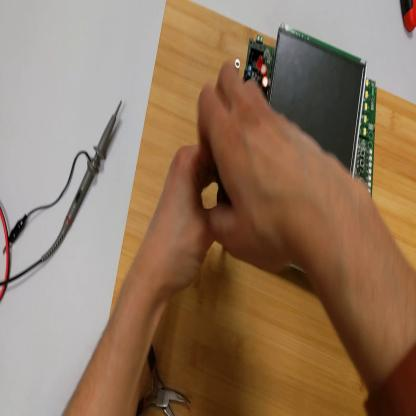hand: (197, 61, 327, 272), (144, 140, 224, 299)
low voltage board: (244, 32, 385, 203)
oscilloscope probe tip: (43, 95, 121, 263)
pliers: (130, 345, 193, 415), (401, 3, 415, 36)
screwdriver-: (215, 172, 231, 211)
working area: (121, 3, 416, 414)
